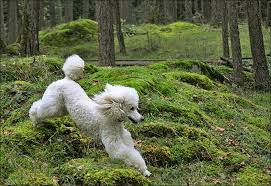Bulldog: (23, 47, 172, 186)
